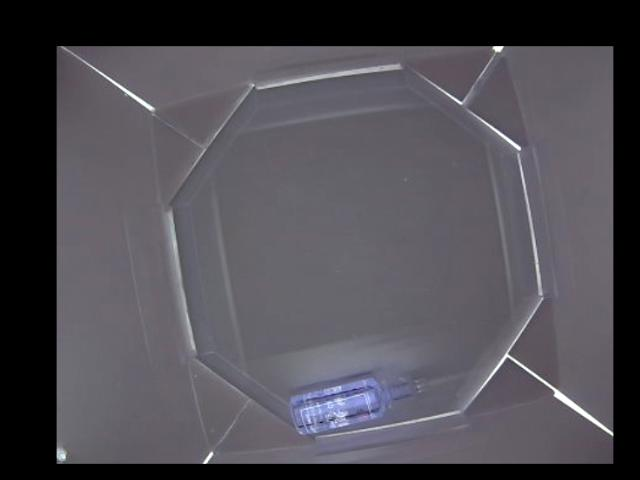Bottle: (287, 367, 429, 435)
